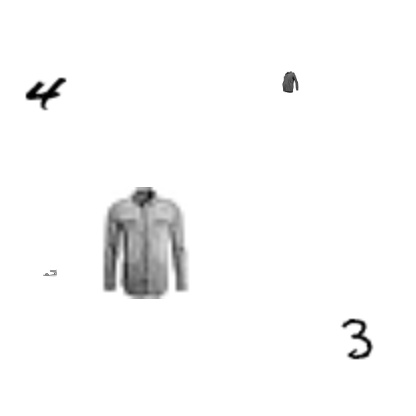3: (331, 311, 387, 367)
4: (16, 64, 72, 120)
Sandal: (43, 266, 57, 280)
Shirt: (88, 187, 200, 299), (279, 71, 301, 93)
